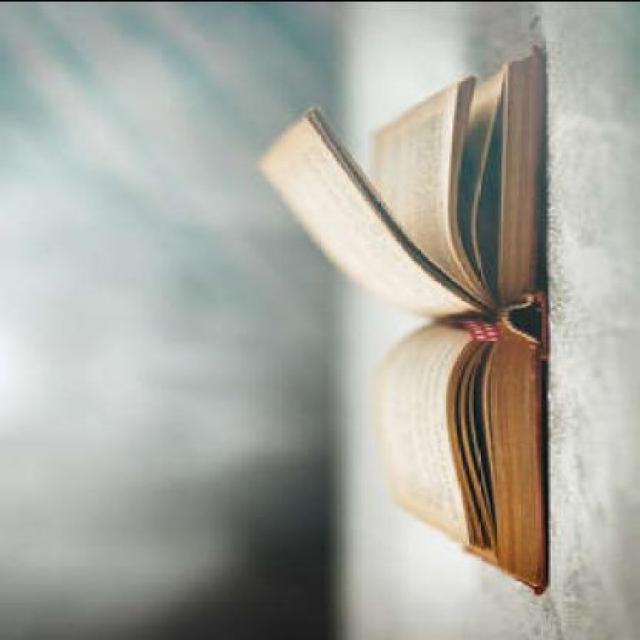book: (203, 63, 606, 599)
